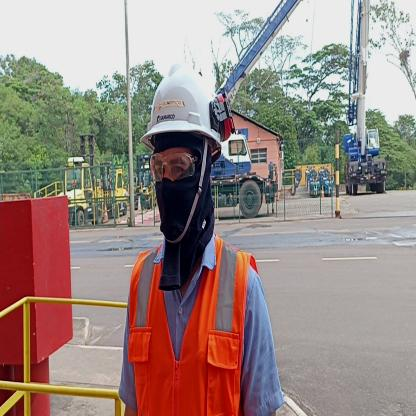Balaclava: (154, 134, 215, 244)
Capacete: (145, 60, 221, 139)
colete: (136, 253, 246, 416)
